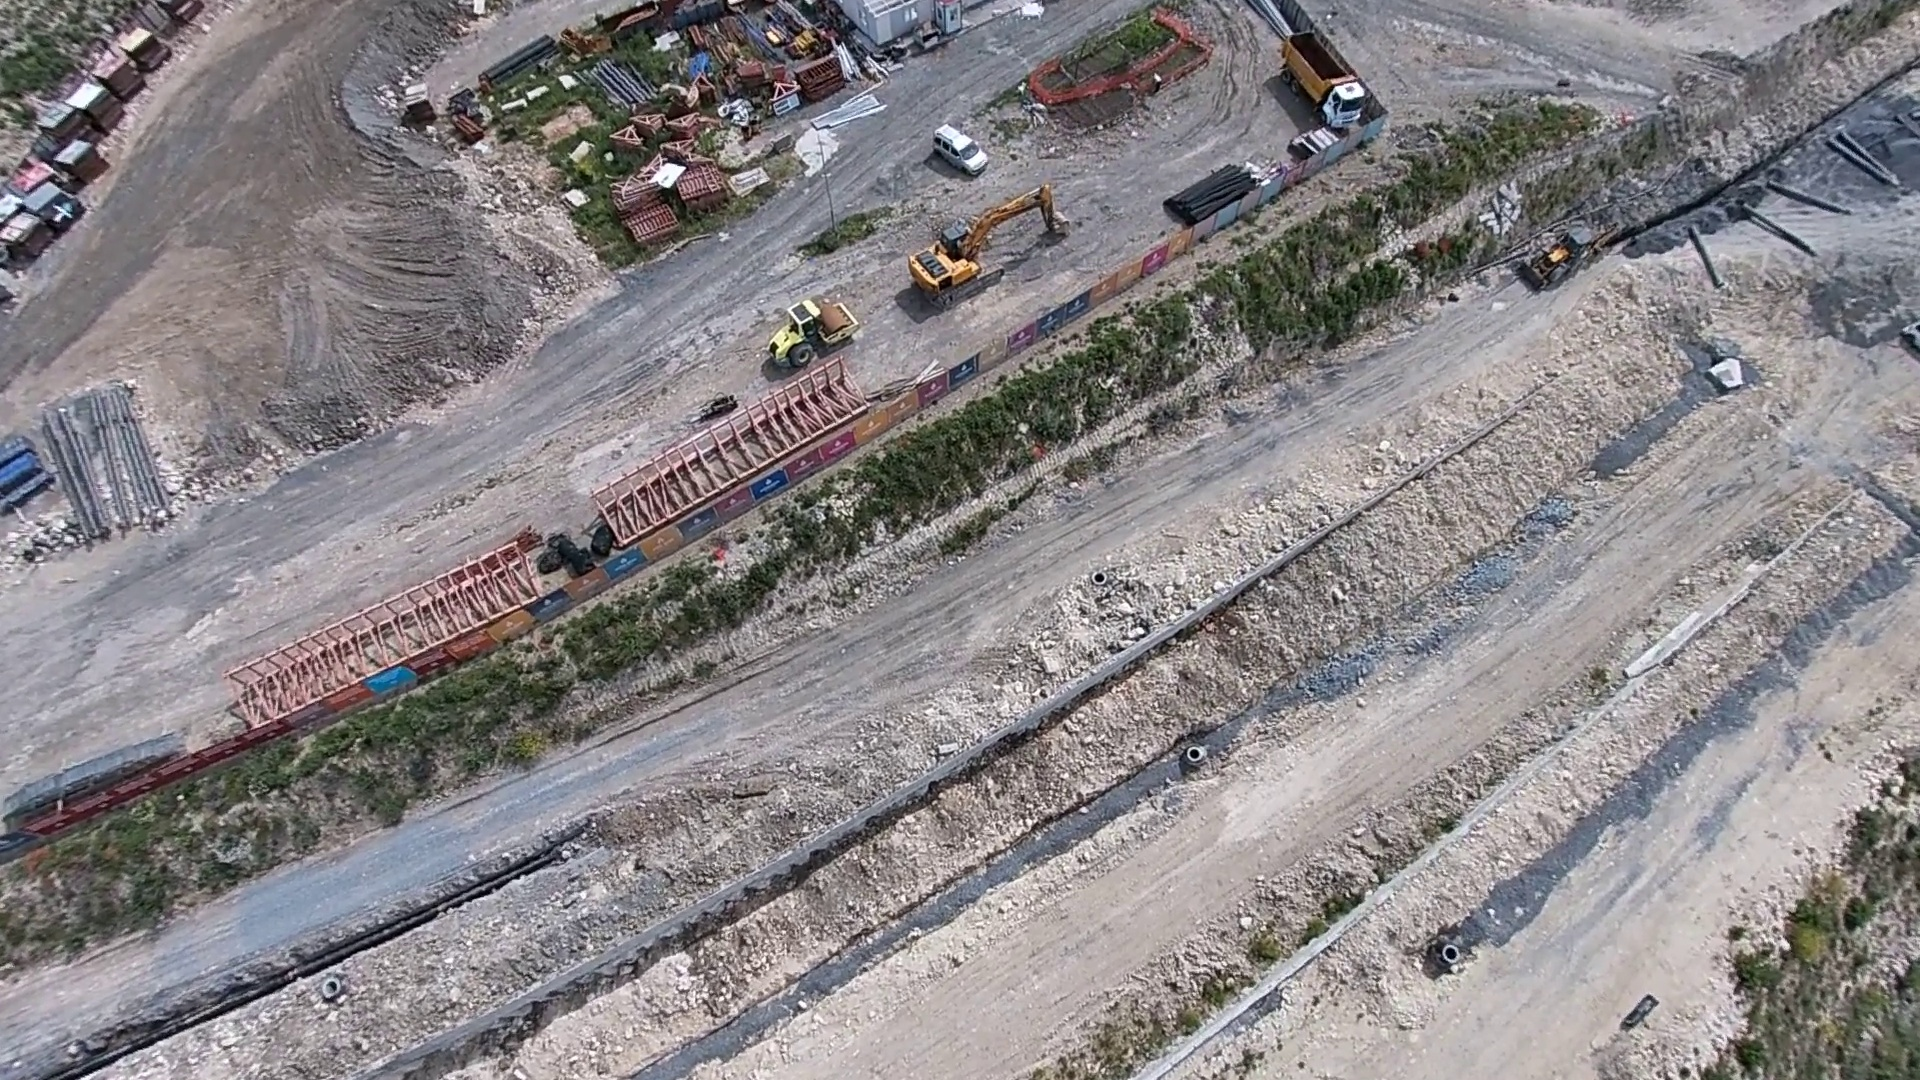araba: (928, 112, 992, 175)
ismakinesi: (909, 175, 1071, 315)
kamyon: (1270, 24, 1374, 132)
traktor: (760, 295, 864, 371), (1513, 211, 1617, 286)
